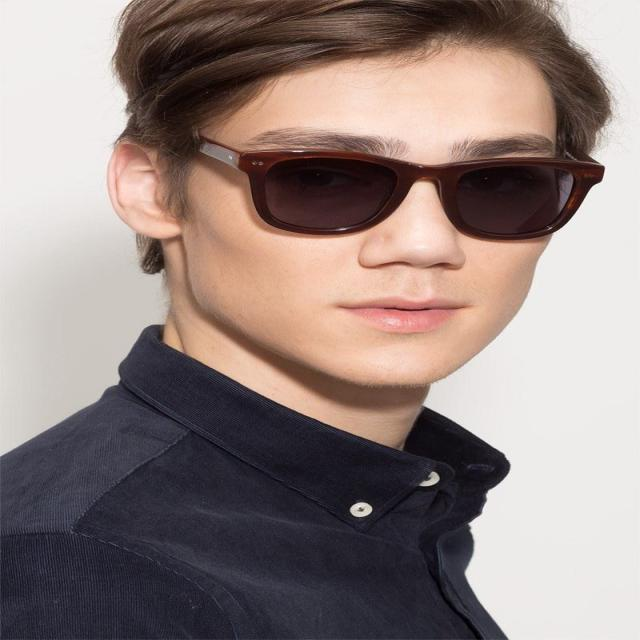2_gafas: (189, 139, 605, 238)
